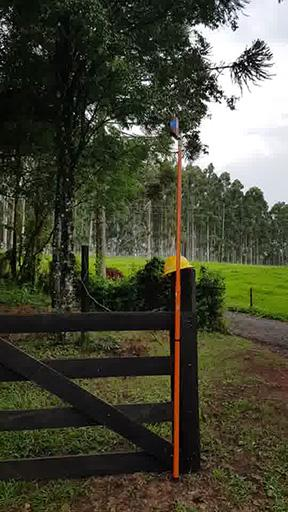Detector_Tensao_Contato: (167, 112, 182, 141)
Vara_Manobra: (170, 136, 183, 478)
